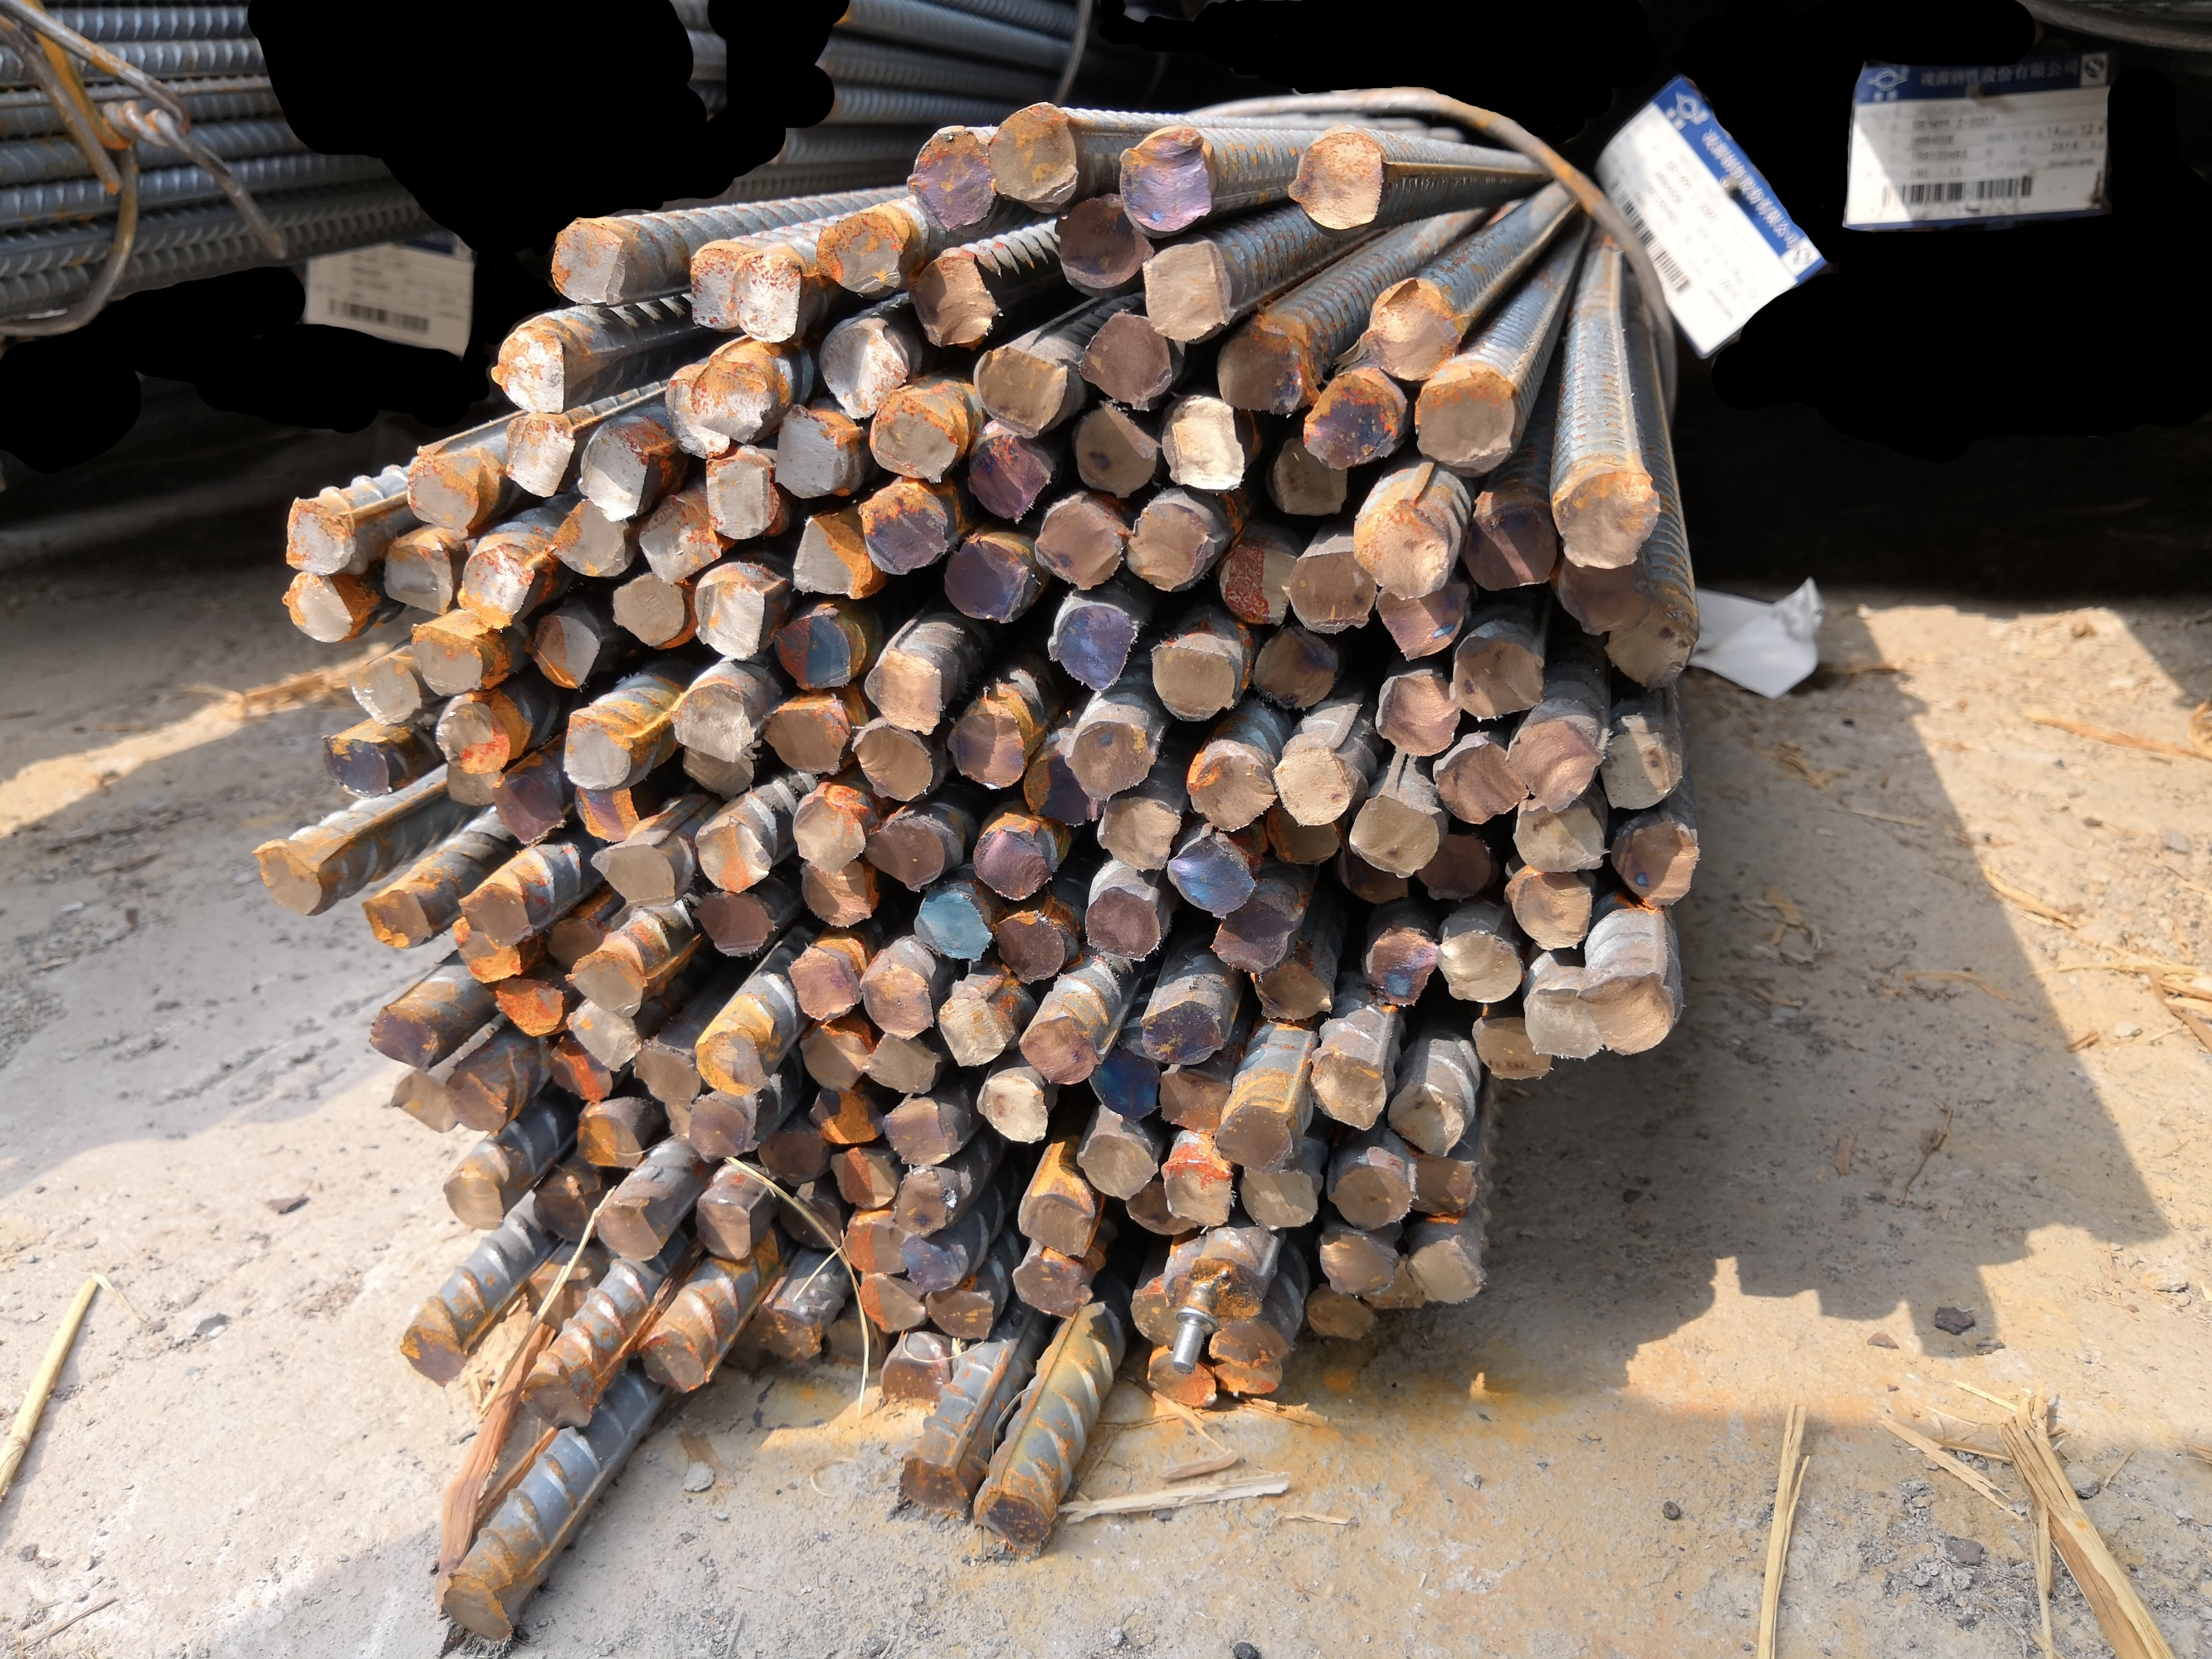rebar: (1546, 467, 1672, 570), (1410, 369, 1525, 481), (1344, 495, 1454, 603), (1112, 127, 1218, 239), (1133, 235, 1241, 343), (1600, 577, 1701, 692), (983, 99, 1084, 213), (1048, 190, 1157, 293), (1072, 307, 1177, 413), (811, 312, 910, 423), (1363, 279, 1468, 382), (1281, 131, 1386, 234), (1501, 716, 1609, 816), (849, 477, 952, 580), (1293, 369, 1398, 471), (899, 122, 997, 230), (1152, 385, 1248, 495), (868, 383, 967, 486), (971, 343, 1075, 441), (1551, 545, 1659, 640), (1028, 497, 1130, 596), (1445, 629, 1550, 725), (931, 535, 1039, 627), (906, 251, 1006, 350), (1121, 493, 1218, 594), (1069, 397, 1163, 502), (1211, 319, 1309, 418), (1429, 739, 1536, 828), (1572, 971, 1682, 1056), (762, 399, 847, 507), (959, 432, 1056, 526), (1041, 601, 1140, 694), (1462, 504, 1562, 596), (1612, 816, 1706, 911), (1370, 666, 1466, 760), (666, 676, 763, 769), (781, 511, 877, 603), (685, 349, 776, 446), (1142, 636, 1239, 727), (1281, 547, 1379, 638), (1056, 718, 1157, 805), (544, 213, 633, 310), (812, 209, 906, 300), (1344, 793, 1440, 882), (1161, 833, 1259, 920), (634, 495, 725, 587), (1250, 622, 1344, 711), (1374, 577, 1471, 662), (1506, 796, 1609, 877), (1213, 537, 1300, 631), (488, 317, 570, 416), (573, 423, 652, 526), (941, 706, 1030, 796), (1506, 864, 1597, 953), (845, 718, 938, 805), (450, 535, 535, 629), (695, 450, 781, 544), (861, 645, 947, 739), (858, 810, 953, 894), (757, 697, 854, 779), (1431, 925, 1527, 1006), (1182, 753, 1278, 833), (1265, 744, 1353, 831), (397, 444, 483, 533), (784, 788, 870, 877), (1088, 795, 1184, 873), (275, 490, 361, 577), (769, 608, 856, 694), (967, 821, 1056, 904), (1325, 1155, 1417, 1236), (1267, 434, 1353, 519), (542, 497, 629, 580), (1591, 728, 1679, 812), (687, 814, 776, 896), (906, 885, 997, 965), (1201, 1317, 1292, 1398), (1361, 920, 1440, 1012), (1011, 1011, 1105, 1087), (377, 537, 462, 620), (518, 608, 601, 694), (551, 709, 636, 793), (856, 955, 938, 1042), (499, 408, 577, 498), (689, 885, 781, 962), (584, 840, 680, 913), (403, 617, 486, 701), (689, 577, 769, 664), (1002, 1248, 1096, 1321), (779, 941, 863, 1023), (1081, 882, 1164, 964), (432, 1563, 518, 1643), (1307, 1049, 1388, 1134), (1009, 1185, 1098, 1262), (1518, 985, 1607, 1061), (1072, 1127, 1163, 1202), (1137, 997, 1229, 1070), (1388, 1077, 1468, 1161), (1023, 748, 1102, 833), (1210, 1101, 1297, 1178), (793, 854, 882, 929), (732, 247, 800, 345), (561, 993, 641, 1075), (485, 770, 568, 849), (990, 906, 1069, 990), (425, 699, 511, 775), (1210, 897, 1295, 974), (605, 568, 685, 648), (931, 992, 1011, 1072), (1259, 795, 1342, 871), (873, 1096, 959, 1171), (1469, 1011, 1557, 1084), (661, 373, 732, 462), (858, 1025, 945, 1096), (1313, 1225, 1400, 1297), (692, 1019, 770, 1098), (1410, 831, 1496, 903), (248, 842, 326, 918), (683, 1093, 763, 1168), (277, 570, 357, 645), (1157, 1157, 1239, 1230), (1236, 1162, 1320, 1234), (1245, 957, 1337, 1021), (804, 1082, 891, 1150), (675, 739, 763, 805), (1084, 1047, 1161, 1124), (973, 1070, 1051, 1145), (444, 913, 525, 986), (343, 652, 424, 725), (821, 1141, 901, 1215), (565, 950, 647, 1021), (1403, 1239, 1487, 1309), (971, 1486, 1055, 1554), (453, 882, 537, 950), (1189, 1255, 1265, 1328), (634, 1319, 706, 1398), (1154, 1068, 1232, 1140), (683, 242, 744, 333), (364, 1002, 441, 1073), (317, 730, 394, 802), (793, 1026, 872, 1096), (1401, 1154, 1482, 1222), (1332, 836, 1412, 904), (485, 972, 567, 1039), (1142, 1347, 1224, 1413), (894, 1452, 971, 1521), (885, 1164, 953, 1243), (1123, 1286, 1201, 1354), (390, 1323, 471, 1389), (833, 1213, 913, 1279), (542, 1035, 617, 1105), (512, 1368, 593, 1432), (631, 1037, 702, 1108), (570, 777, 645, 845), (357, 885, 436, 950), (743, 1304, 824, 1364), (852, 1272, 929, 1337), (896, 1229, 967, 1297), (591, 1197, 664, 1263), (689, 1192, 755, 1265), (922, 1281, 997, 1345), (514, 1270, 591, 1333), (389, 1070, 460, 1136), (438, 1066, 509, 1133), (1300, 1284, 1382, 1342), (753, 1124, 830, 1185), (575, 1107, 645, 1171), (530, 1182, 598, 1244), (821, 1309, 887, 1371), (879, 1347, 947, 1408), (438, 1173, 507, 1232), (1124, 1182, 1194, 1241), (1356, 1258, 1426, 1317), (777, 1192, 844, 1253), (434, 758, 511, 807), (539, 917, 601, 969), (1161, 1265, 1206, 1323), (725, 1328, 772, 1377), (655, 1094, 699, 1145)
